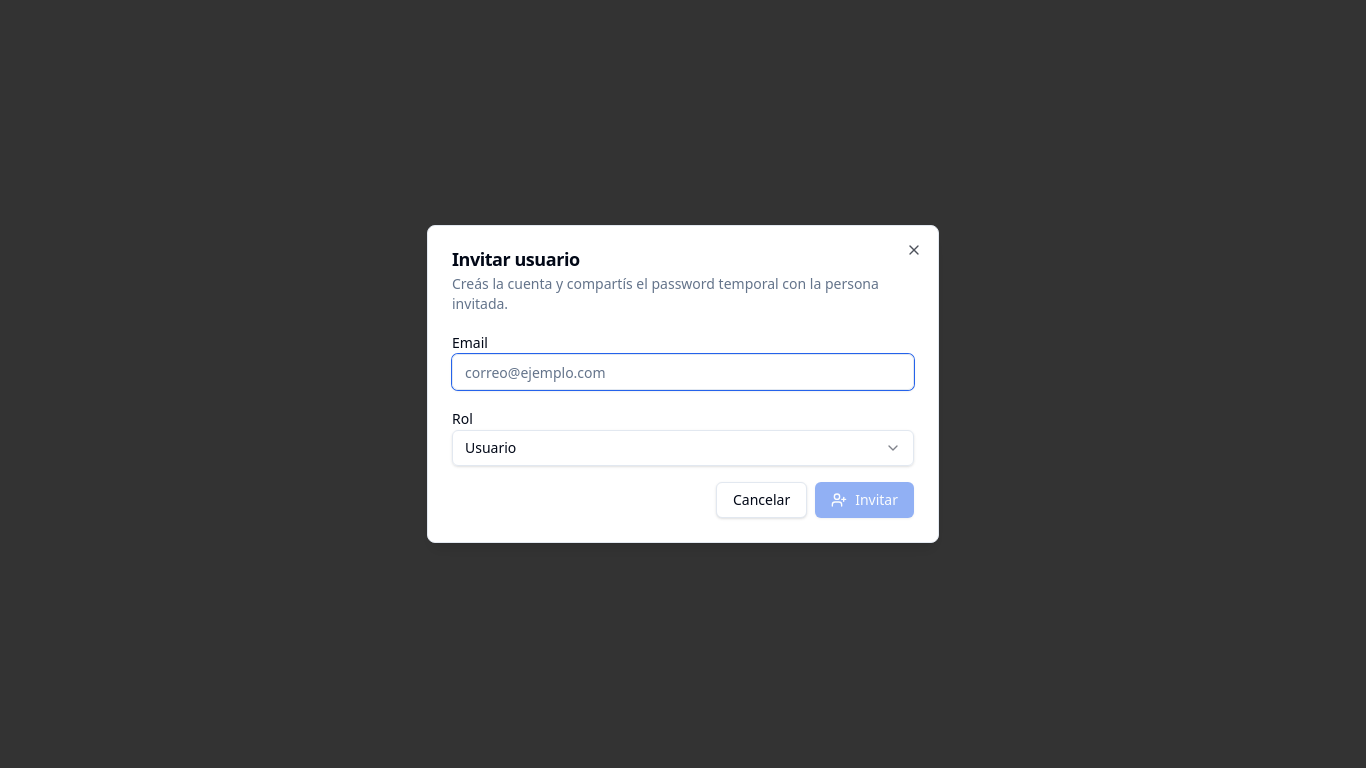
Test: DialogoInvitar: resultado y errores › error 403 (guard de rol) muestra el mensaje de la edge function
The image size is (1366, 768).
Type "nuevo@test.local" into the field labelled "Email". click: (683,372)
box: [452,354,914,390]
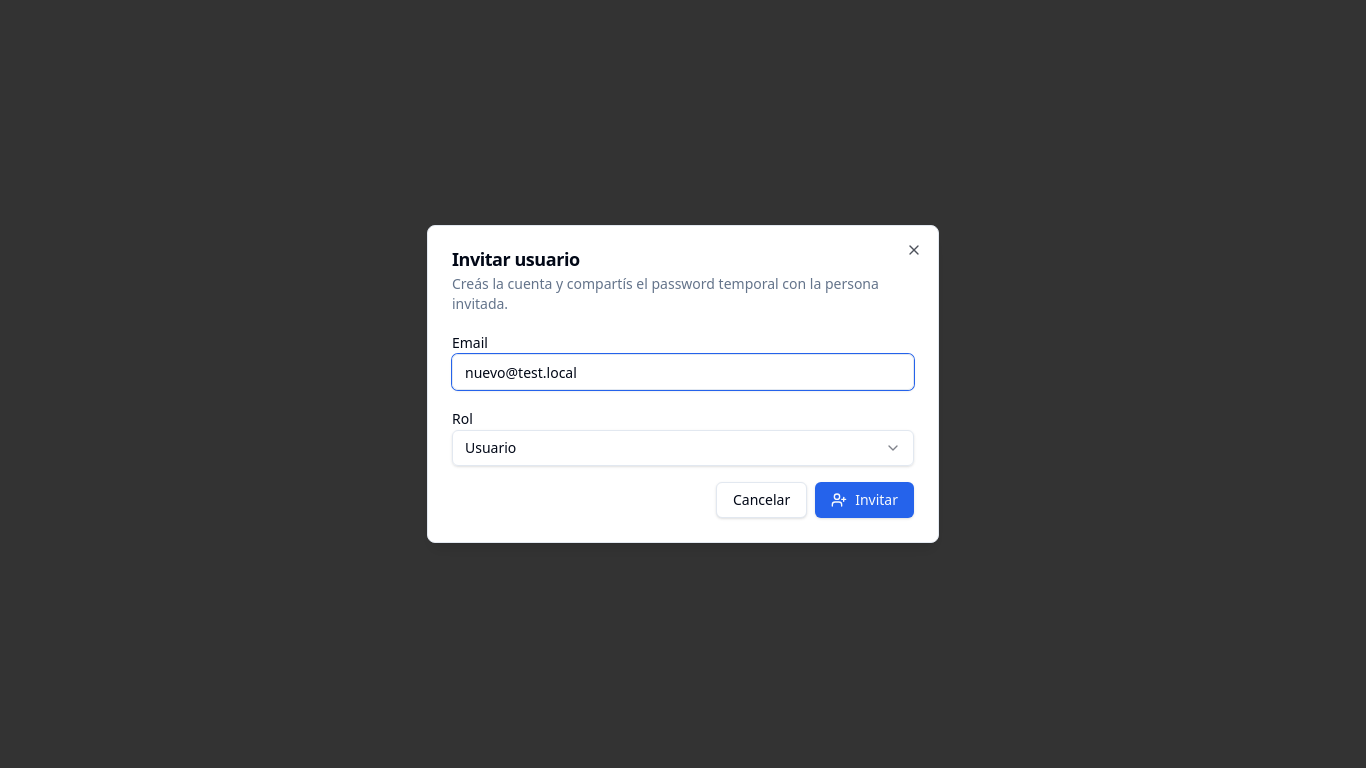
Click the button "Invitar". click: (865,500)
box: [815,482,914,518]
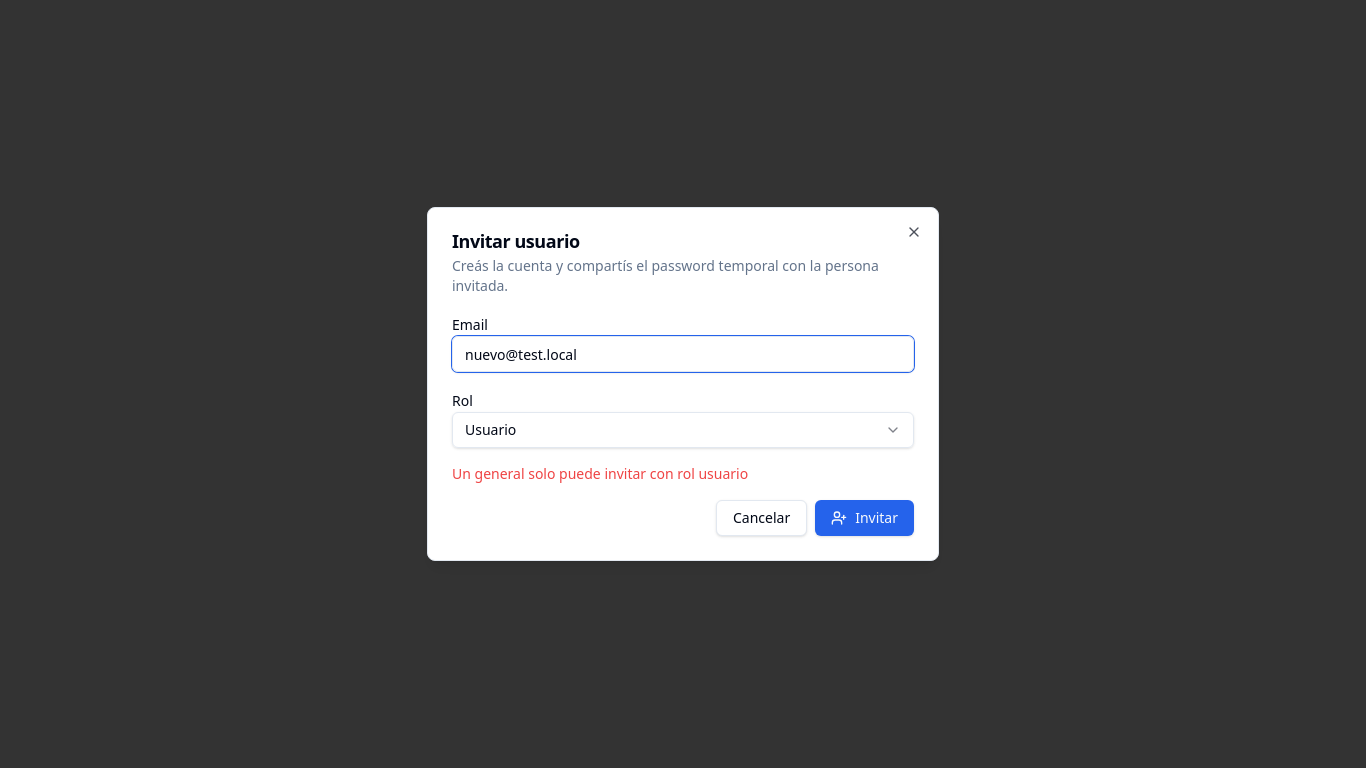
Expected: the text "Un general solo puede invitar con rol usuario" is shown, [452,464,748,483]
